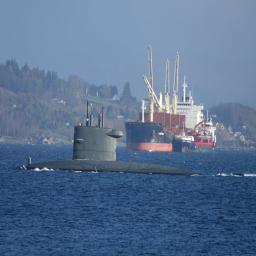submarine: (22, 99, 193, 172)
